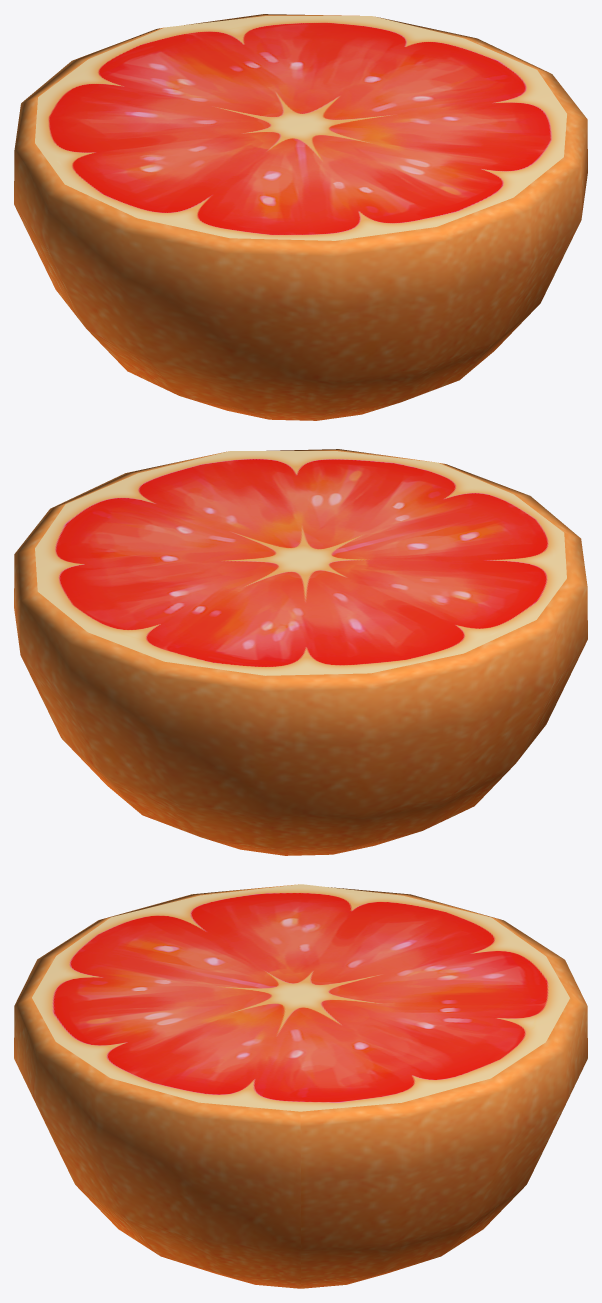
The model's file is Grapefruit_Half.fbx.
3 views of the same model, one above another, from view 1: azimuth 30°, elevation 25°; view 2: azimuth 150°, elevation 25°; view 3: azimuth 270°, elevation 25° (orthographic).
Visible parts, largest first — view 1: Grapefruit_Half; view 2: Grapefruit_Half; view 3: Grapefruit_Half.
Boxes of the visible parts, x1,y1,x2,y2 form: Grapefruit_Half: (14, 14, 587, 420); Grapefruit_Half: (14, 449, 587, 855); Grapefruit_Half: (14, 884, 587, 1288).
Size of the model in its own units: 34.66 by 17.69 by 34.66.
1 material, 1 textured.
